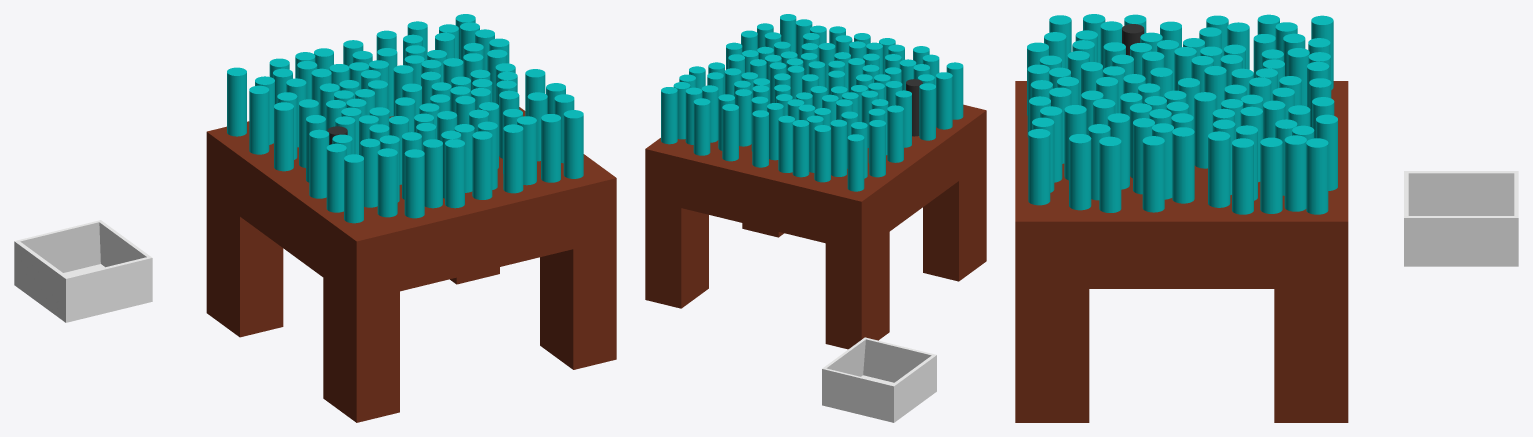
File: can_world_100_cans.dae
The picture shows the model from 3 angles, left to right: view 1: azimuth 30°, elevation 25°; view 2: azimuth 150°, elevation 25°; view 3: azimuth 270°, elevation 25°; orthographic projection. The views are drawn at different scales.
Visible parts, largest first — view 1: base (×27), SketchUp (×2); view 2: base (×39), SketchUp (×2); view 3: base (×51), SketchUp (×2).
Part boxes in pixels (bbox=[...]): base (×27): bbox=[206, 48, 616, 422]; SketchUp (×2): bbox=[14, 220, 152, 322]; base (×39): bbox=[645, 14, 986, 349]; SketchUp (×2): bbox=[822, 337, 936, 422]; base (×51): bbox=[1015, 15, 1348, 422]; SketchUp (×2): bbox=[1404, 171, 1518, 266].
Size of the model in its own units: 1.3 by 1.36 by 0.811.
